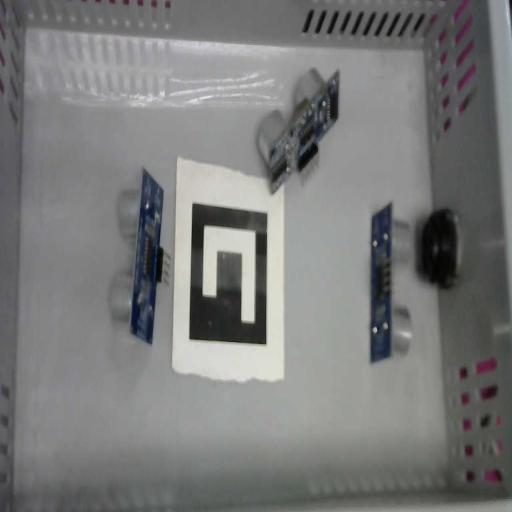QR: (172, 157, 285, 381)
ultrasonic_hc-sr04: (108, 167, 170, 346), (256, 66, 340, 195), (369, 201, 415, 365)
